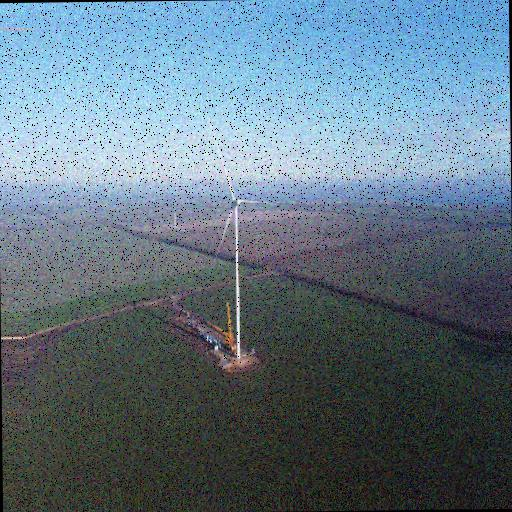wind turbine: (206, 146, 281, 357)
